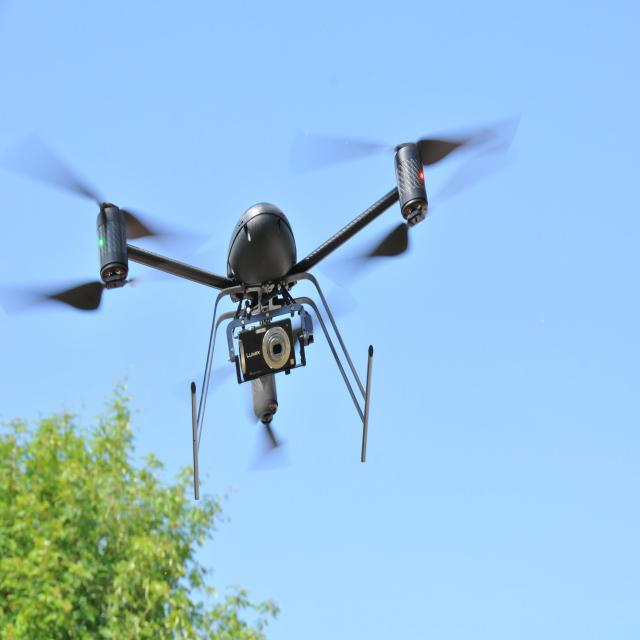drone: (96, 139, 431, 502)
